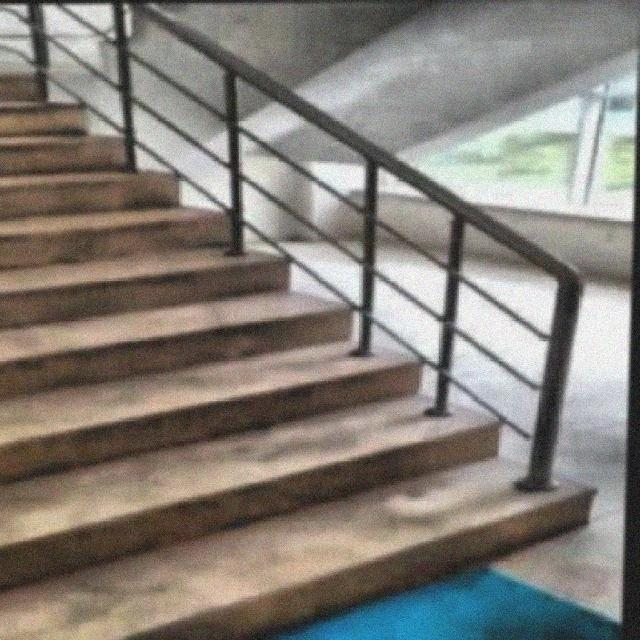stair: (2, 56, 620, 638)
